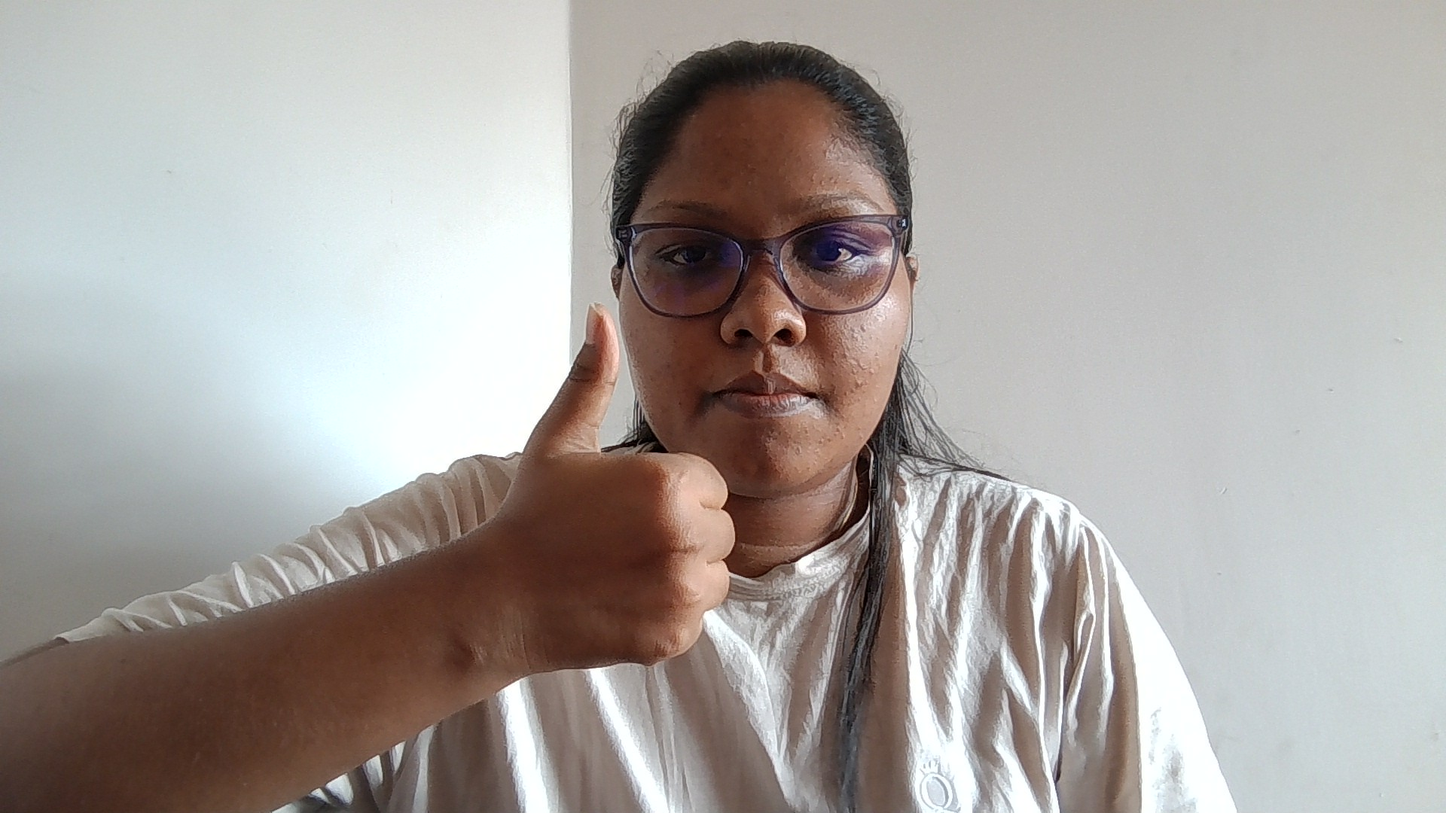Thumbs Up: (441, 269, 789, 709), (428, 462, 435, 495)
